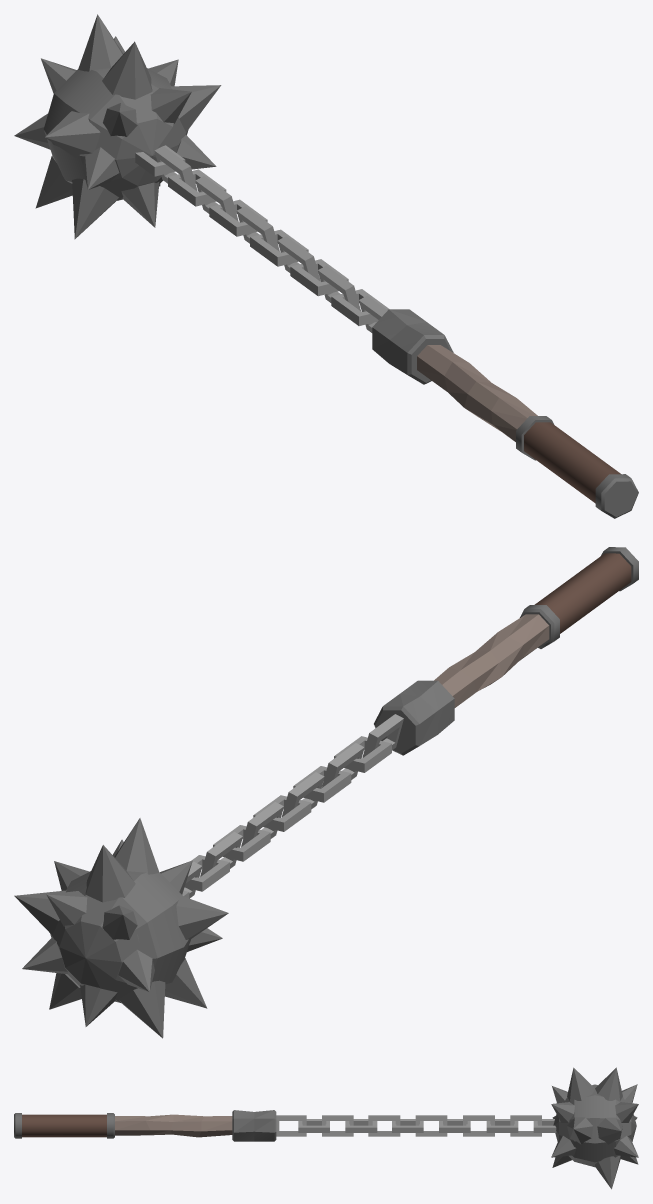
File: fleau.fbx
The picture shows the model from 3 angles, top to bottom: view 1: azimuth 30°, elevation 25°; view 2: azimuth 150°, elevation 25°; view 3: azimuth 270°, elevation 25°; orthographic projection. The views are drawn at different scales.
Visible parts, largest first — view 1: fleau_masse, fleau_manche, fleau; view 2: fleau_masse, fleau_manche, fleau; view 3: fleau_masse, fleau_manche, fleau.
Boxes of the visible parts, x1,y1,x2,y2 form: fleau_masse: (14,14,221,239); fleau_manche: (372,309,638,518); fleau: (135,145,389,332); fleau_masse: (14,818,228,1038); fleau_manche: (374,547,638,755); fleau: (182,714,403,898); fleau_masse: (551,1067,638,1189); fleau_manche: (14,1110,276,1141); fleau: (276,1115,556,1136).
Size of the model in its own units: 0.4342 by 0.4317 by 2.31.
